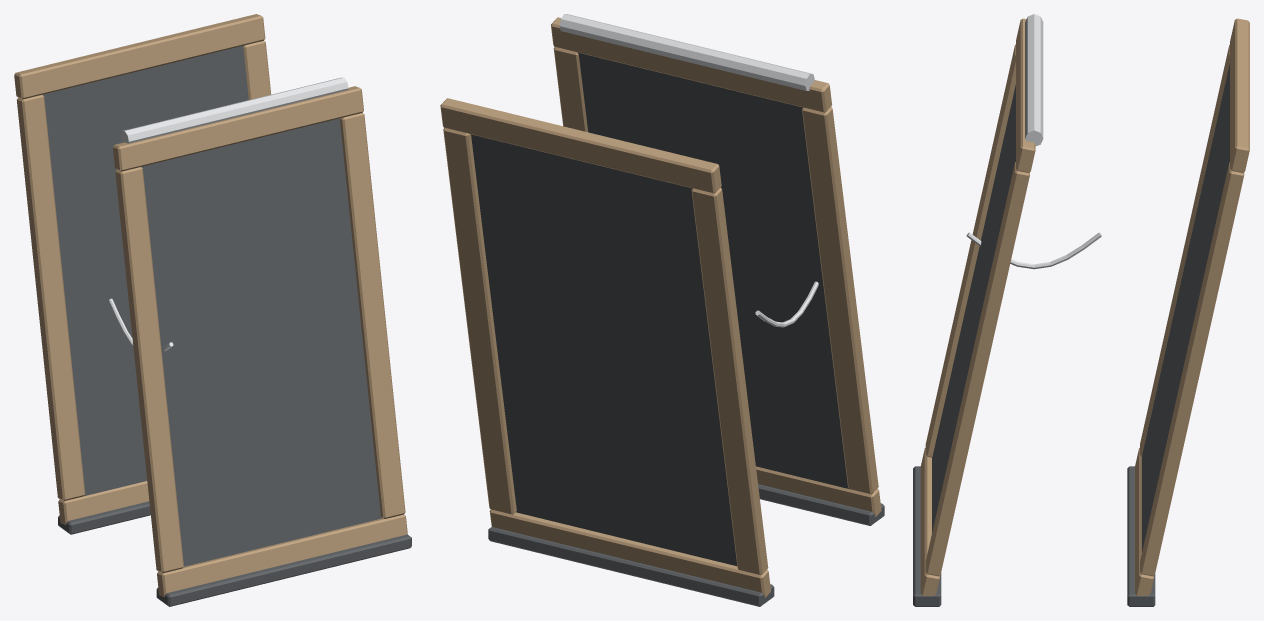
File: bakery-and-cafe-a-board-sign-15dfce55__22219.glb
3 renders of one model, left to right at view 1: azimuth 30°, elevation 25°; view 2: azimuth 150°, elevation 25°; view 3: azimuth 270°, elevation 25°, orthographic. The views are drawn at different scales.
Parts seen in each view (by area): view 1: a-board-sign; view 2: a-board-sign; view 3: a-board-sign.
Boxes of the visible parts, box(x1,y1,x2,y2) form: a-board-sign: box(14, 14, 411, 606); a-board-sign: box(440, 14, 884, 606); a-board-sign: box(913, 14, 1249, 606).
Size of the model in its own units: 0.6012 by 1.02 by 0.6601.
